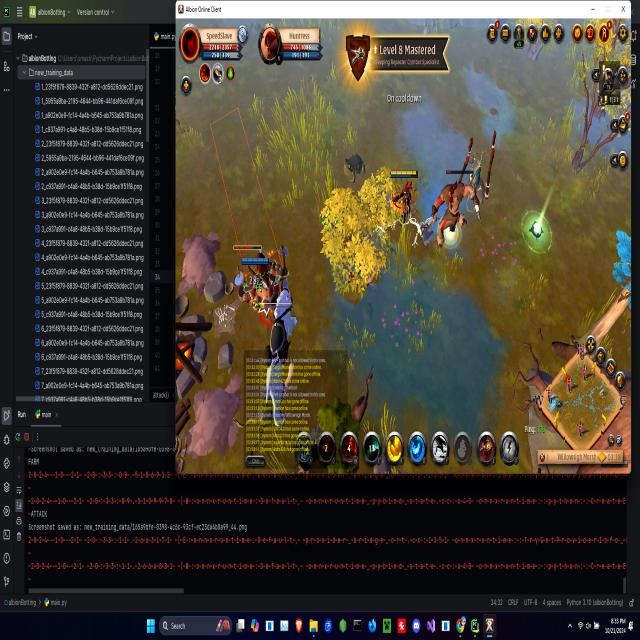ore: (232, 238, 292, 323), (429, 167, 472, 246), (339, 138, 369, 189)
red: (388, 168, 420, 224), (238, 254, 272, 273)
wisp caged: (584, 222, 631, 362)
